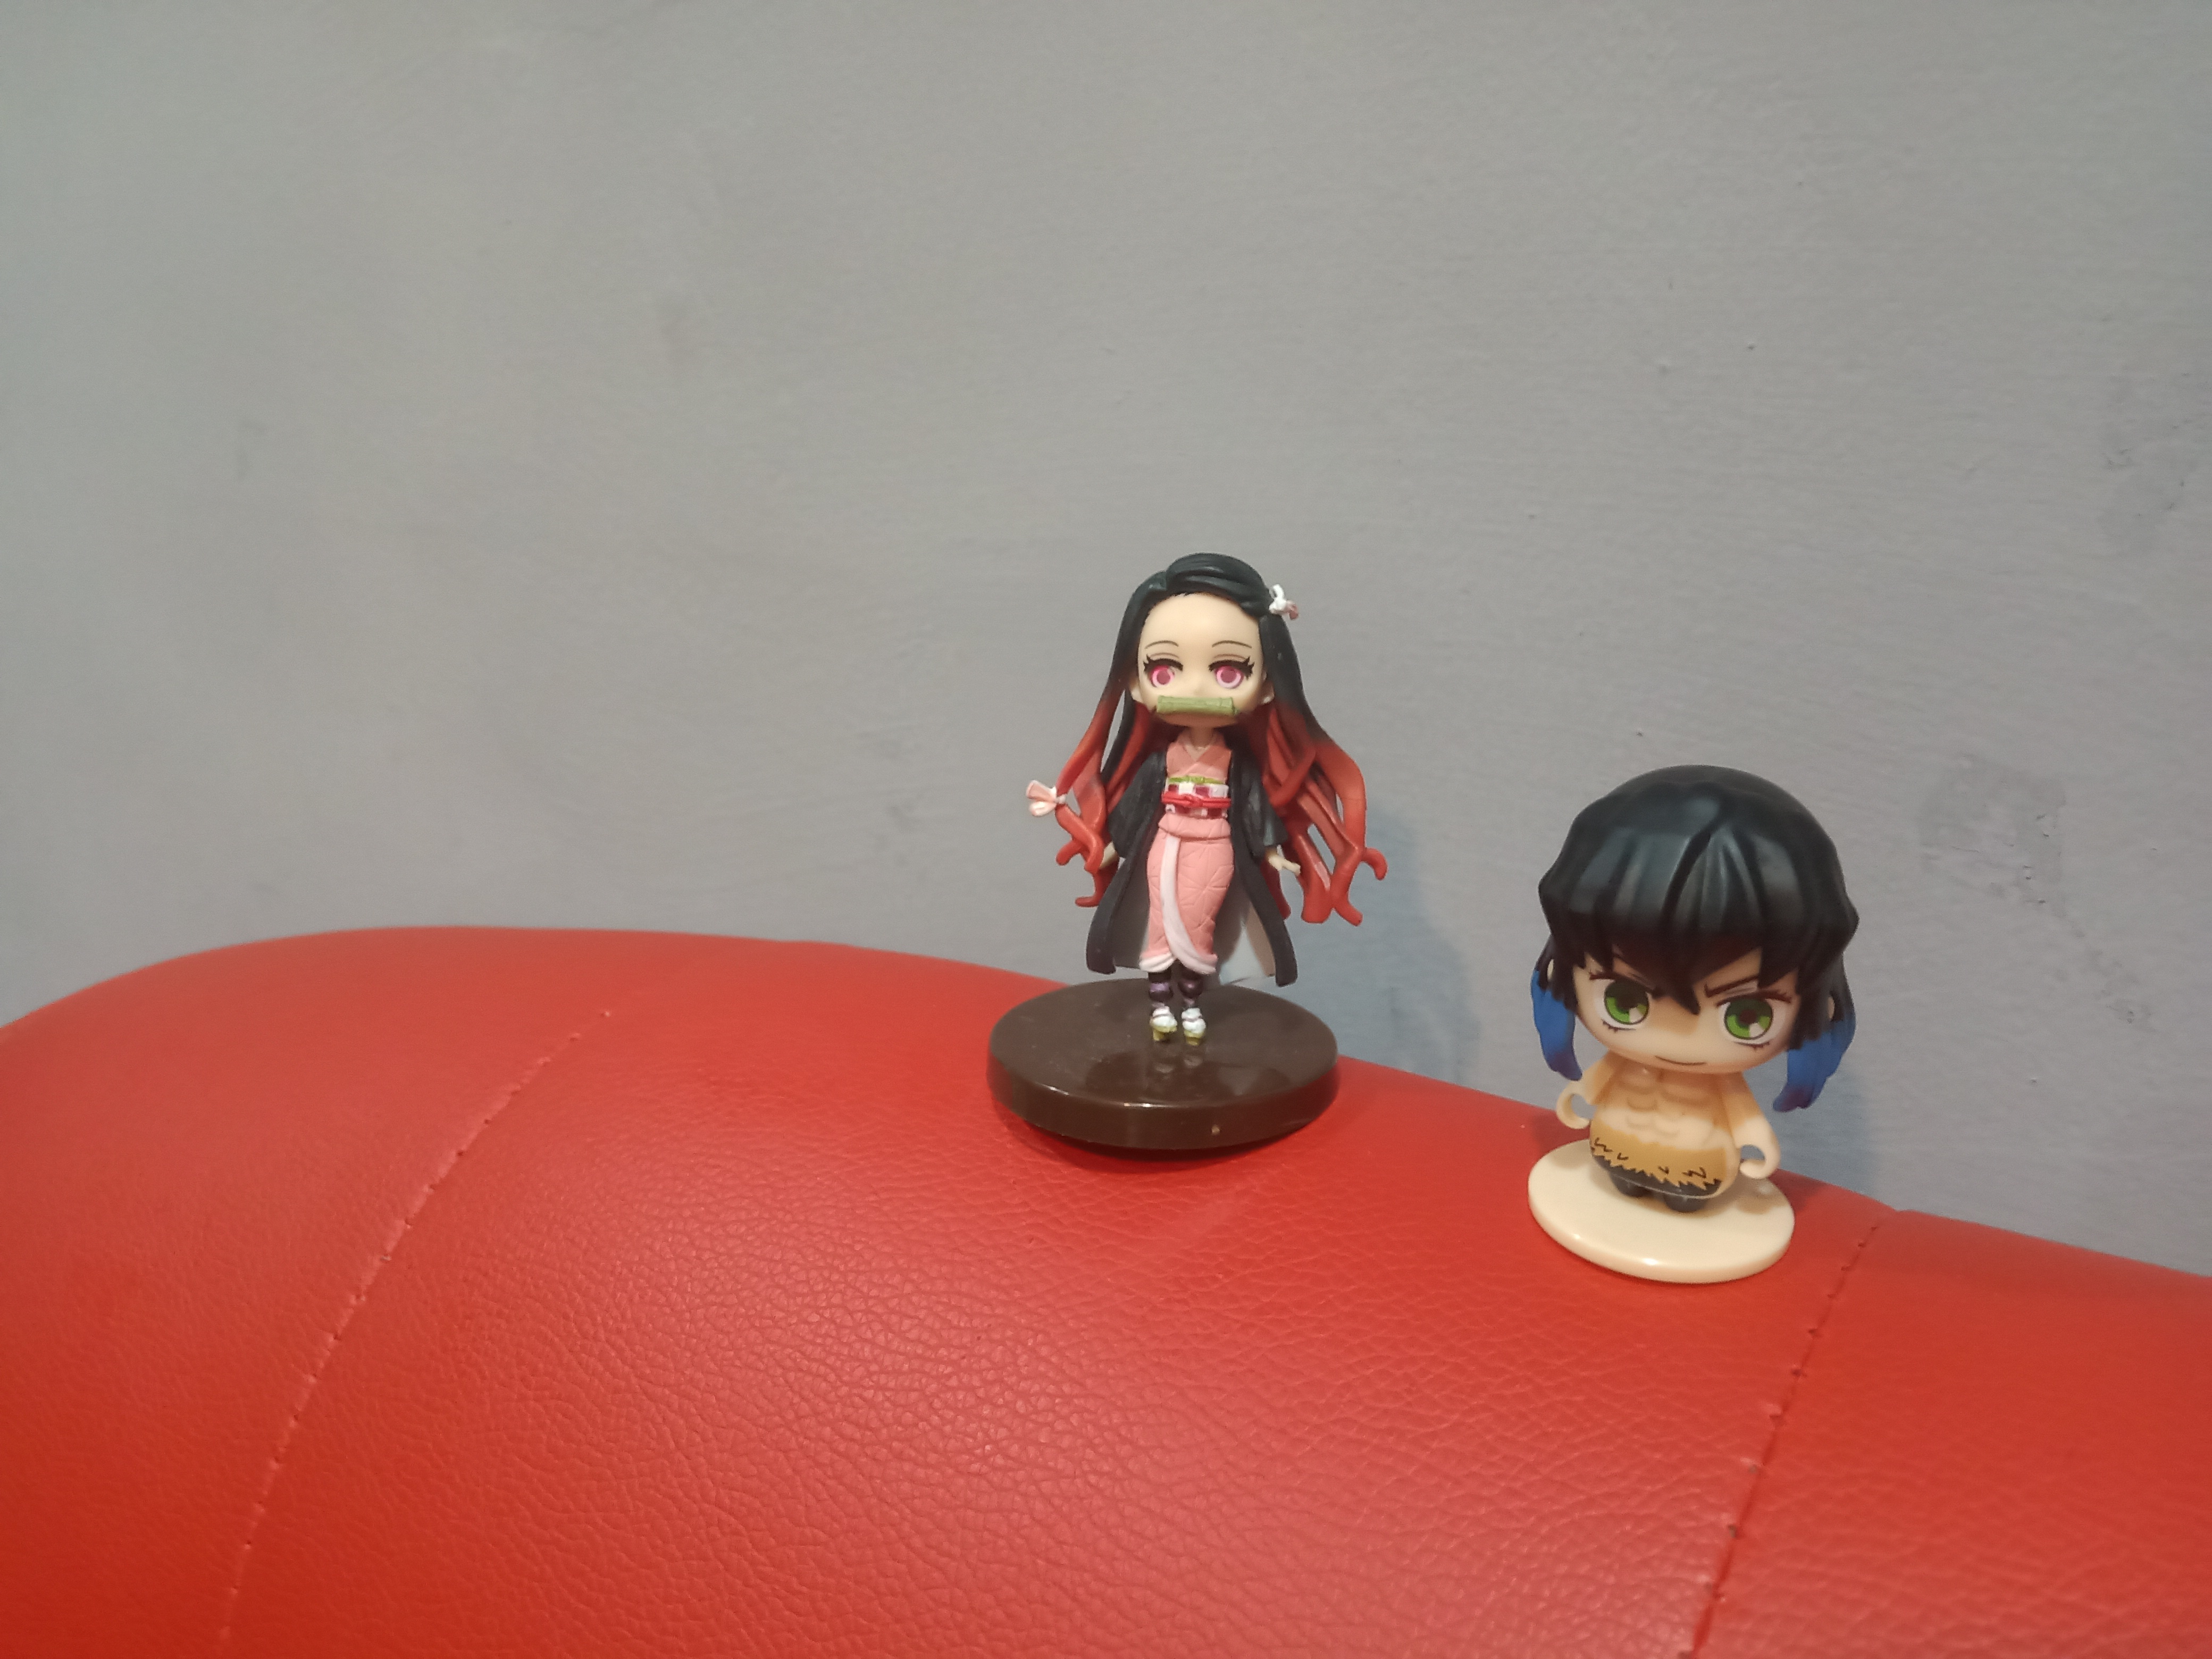Inosuke: (1510, 755, 1874, 1298)
Nezuko: (970, 540, 1406, 1173)
